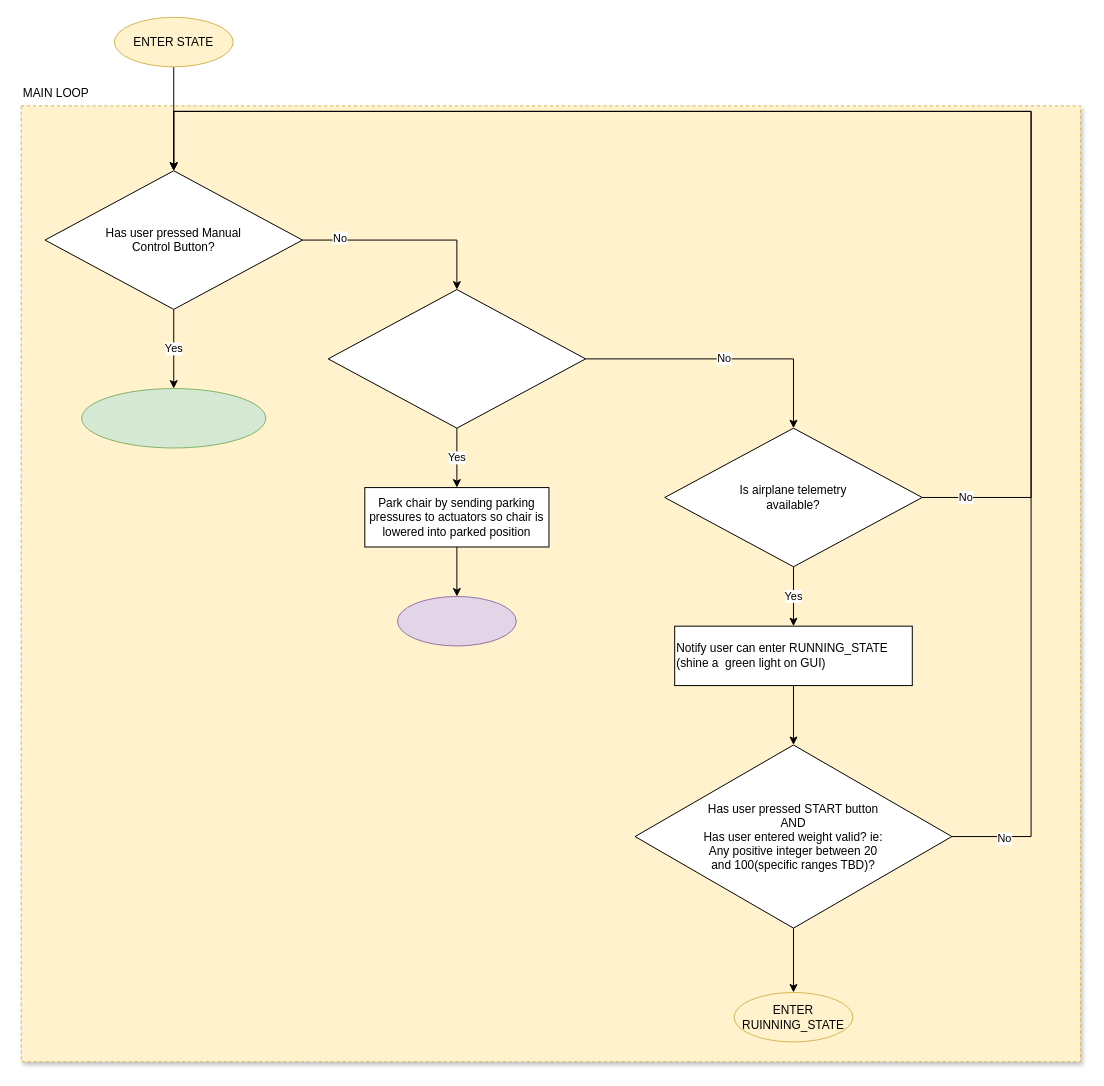
Some shapes in this 1104 by 1086 pixel diagram are drawn without their labels. Each missing label, with the centre of its shape:
"ENTER IDLE_STATE" goes at point (456, 620).
"ENTER MANUAL_CONTROL_STATE" goes at point (173, 418).
"Have any of the safety sensors been tripped OR has user pressed un-park button" goes at point (456, 358).
